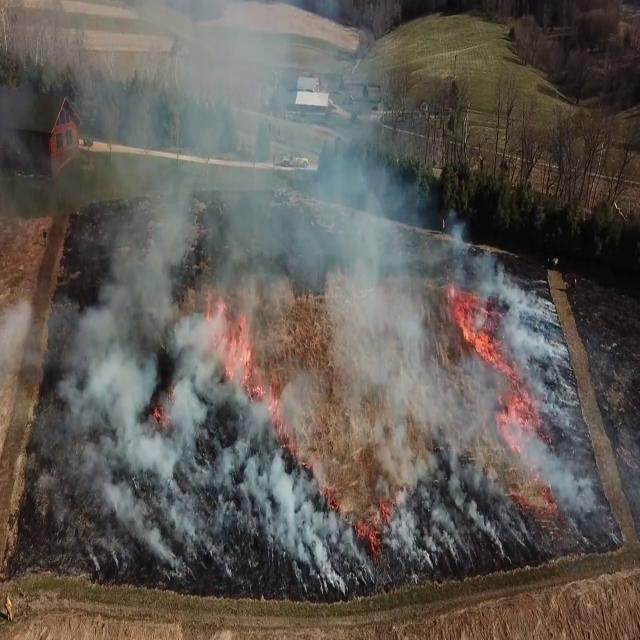Fire: (218, 308, 282, 434), (450, 276, 506, 362)
Smoke: (4, 5, 520, 590)
